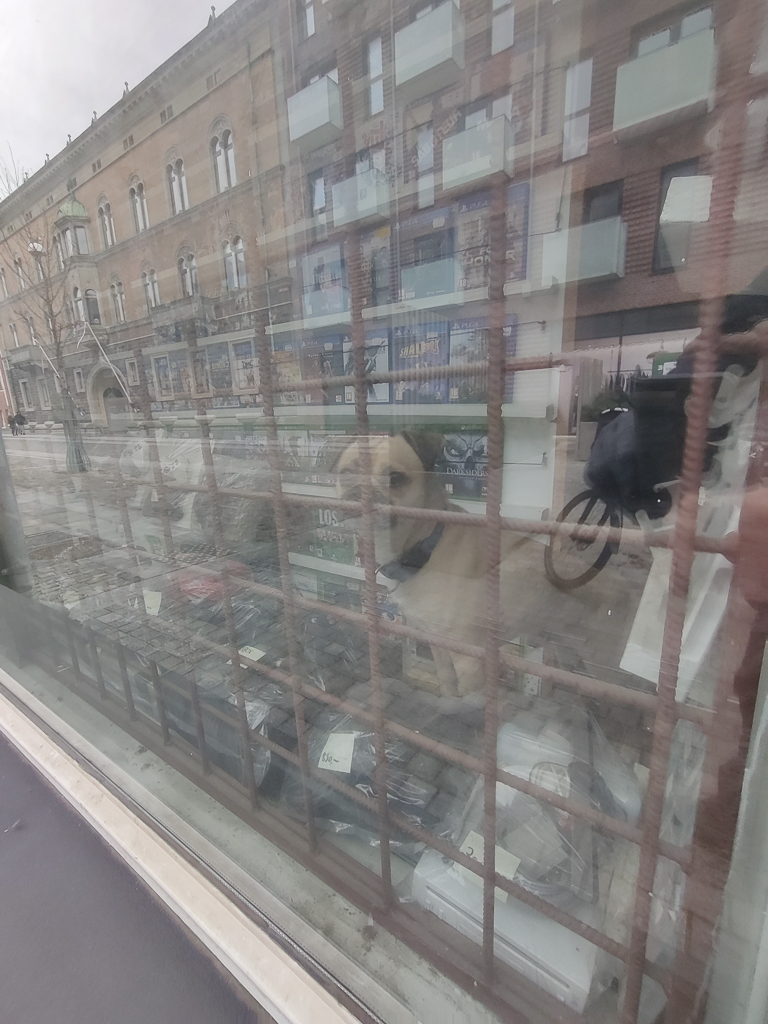Dog: (312, 418, 677, 733)
